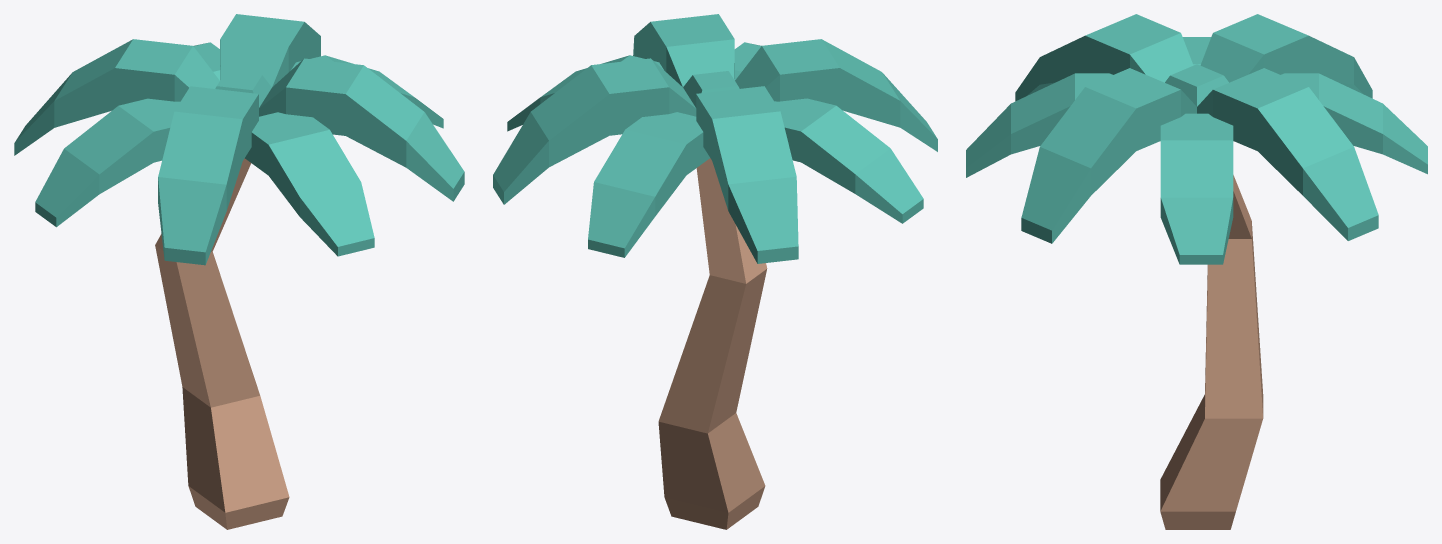
The model's file is tree_palmDetailedShort.glb.
The picture shows the model from 3 angles, left to right: view 1: azimuth 30°, elevation 25°; view 2: azimuth 150°, elevation 25°; view 3: azimuth 270°, elevation 25°; orthographic projection. The views are drawn at different scales.
Visible parts, largest first — view 1: tree_palmDetailedShort; view 2: tree_palmDetailedShort; view 3: tree_palmDetailedShort.
Part boxes in pixels (x1=…): tree_palmDetailedShort: x1=14, y1=14, x2=464, y2=529; tree_palmDetailedShort: x1=493, y1=14, x2=937, y2=529; tree_palmDetailedShort: x1=966, y1=14, x2=1427, y2=529.
Bounding box in the file's own units: 1.03 × 1.12 × 1.03.
